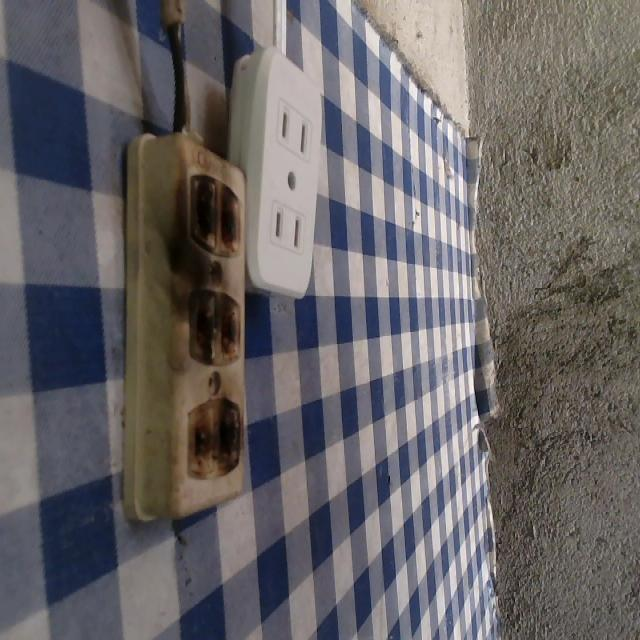-: (181, 395, 242, 488), (183, 173, 244, 259), (185, 289, 245, 367)
